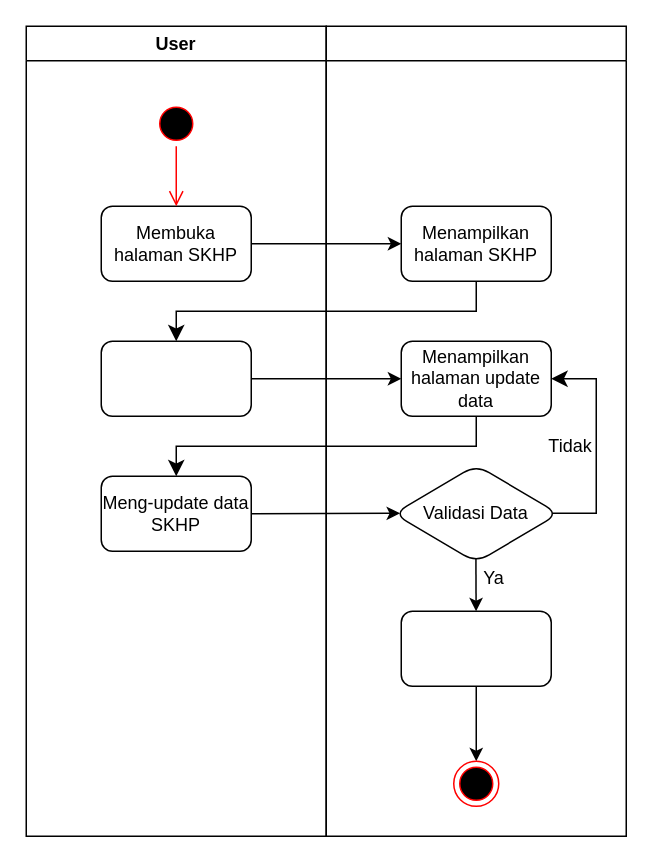
This 653x863 diagram has some shape labels left out. The shapes that lost their labels are listed below. From the top down, each one's box as (x1, y1, x2, y2) in pixels, then its label:
(100, 340, 251, 416): Pilih tombol update pada data
(325, 25, 626, 836): Admin
(400, 610, 551, 686): Perubahan Data Tersimpan
